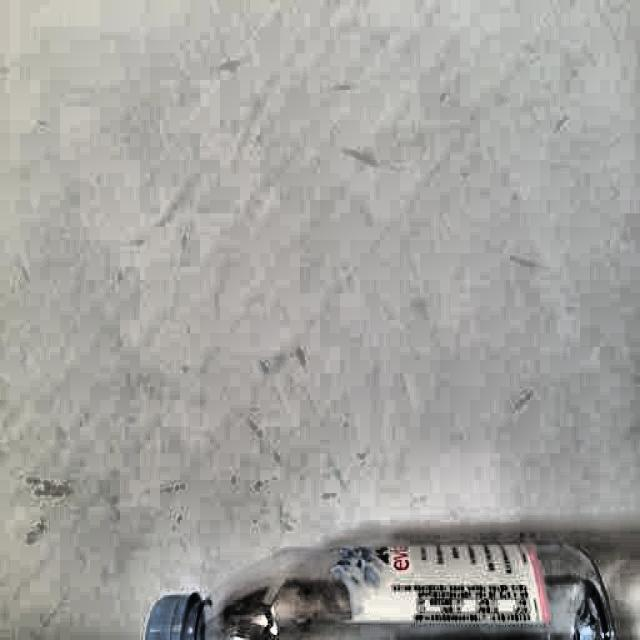plastic: (139, 540, 613, 640)
